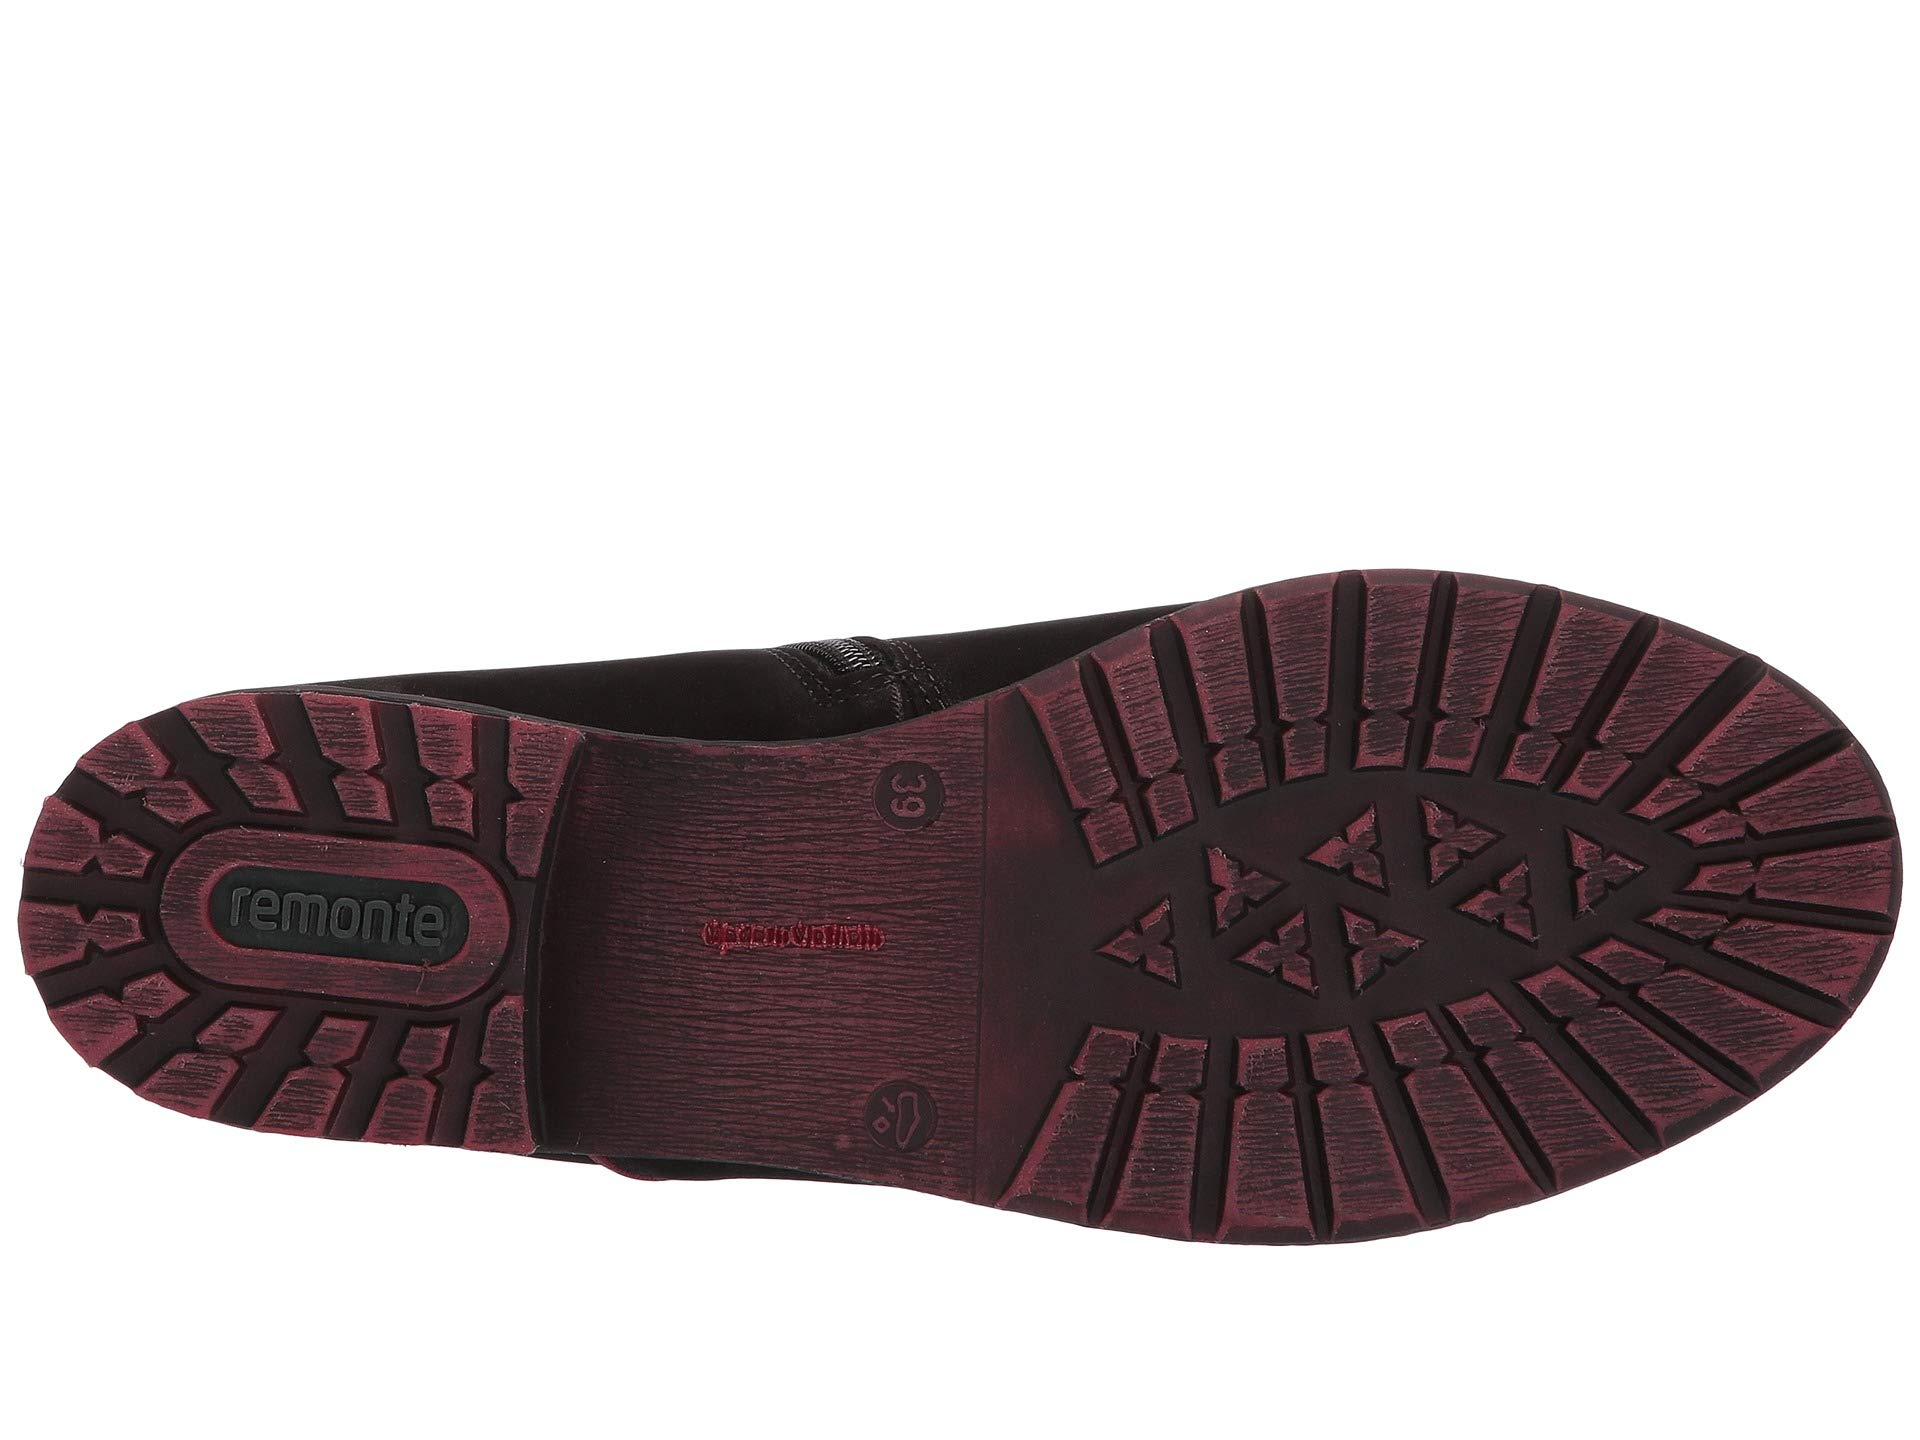bowtie: (1033, 1006, 1420, 1237), (150, 973, 537, 1166), (141, 691, 562, 836), (1661, 796, 1894, 991), (1169, 576, 1362, 803), (1327, 569, 1533, 782), (5, 808, 224, 973)
circle: (150, 826, 517, 1010)
exclude: (525, 697, 995, 1206)
quad: (150, 826, 517, 1010)
star: (1095, 826, 1657, 1004)
text: (150, 826, 517, 1010)
